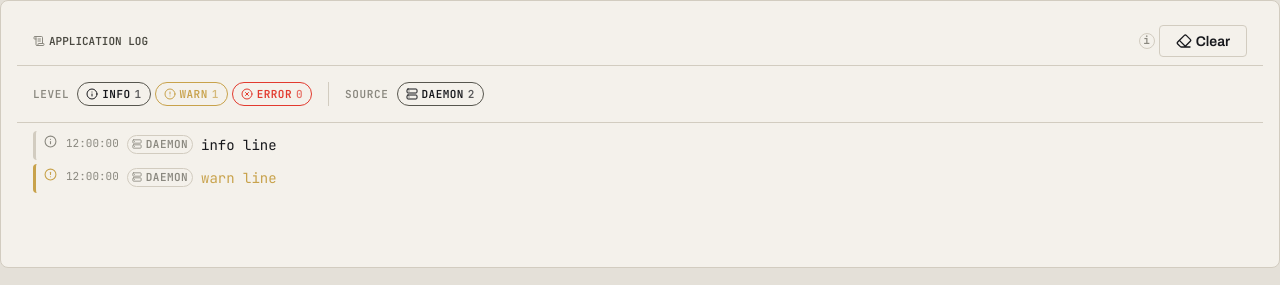
Test: AppLogPanel › hides lines whose level is toggled off, and restores them when toggled back on
Expected: the text "warn line" is shown, [201,169,277,187]
Click the button "Warn 1" at (191, 94), box [154,82,228,106]
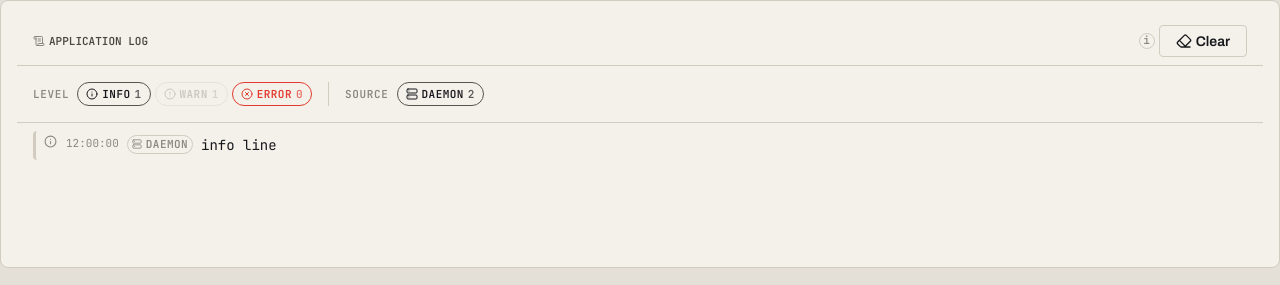
Expected: the text "info line" is shown, [201,136,277,154]
Now the text "warn line" is gone
Click the button "Warn 1" at (191, 94), box [154,82,228,106]
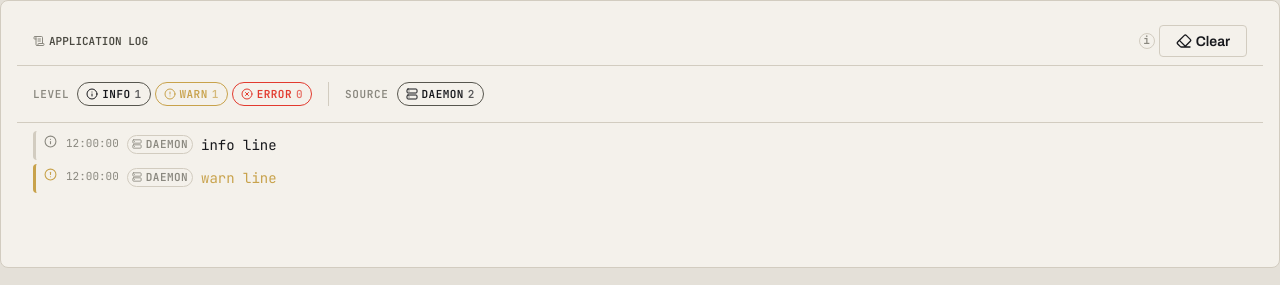
Now the text "warn line" is shown, box [201,169,277,187]
